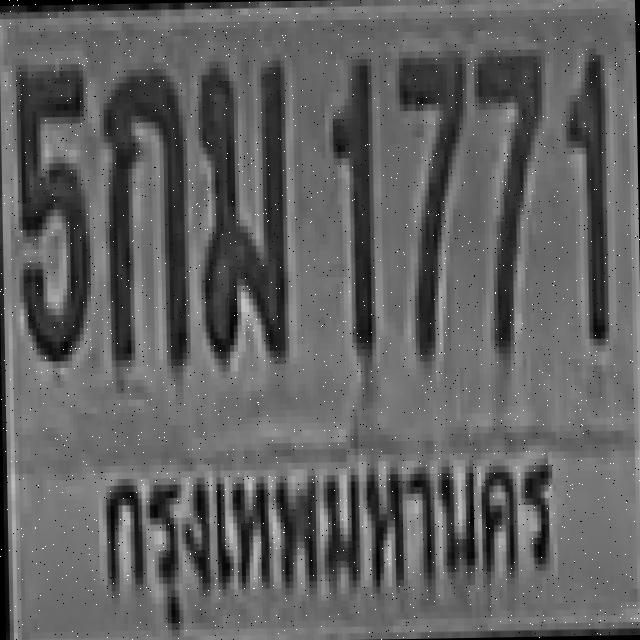1: (560, 45, 609, 342), (327, 58, 372, 356)
10GorGai: (98, 61, 186, 366)
42MorMa: (193, 54, 285, 358)
5: (12, 64, 88, 362)
7: (474, 42, 546, 353), (394, 50, 466, 355)
Bangkok: (83, 430, 568, 628)
